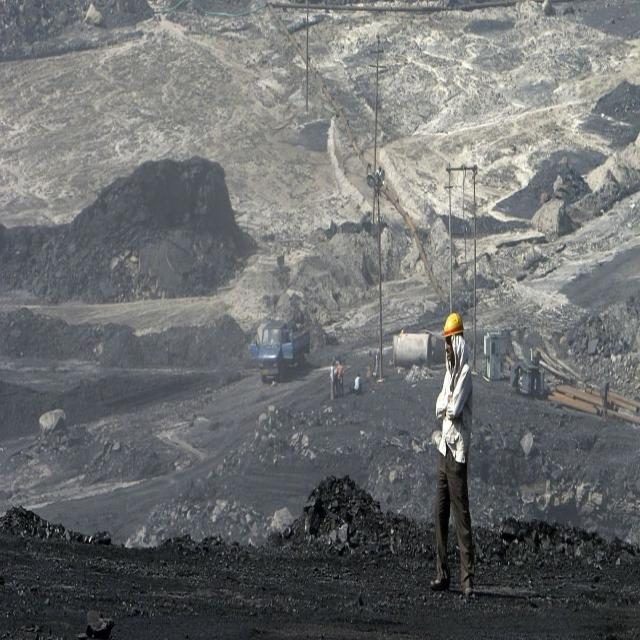light_vehicle: (250, 322, 310, 382)
